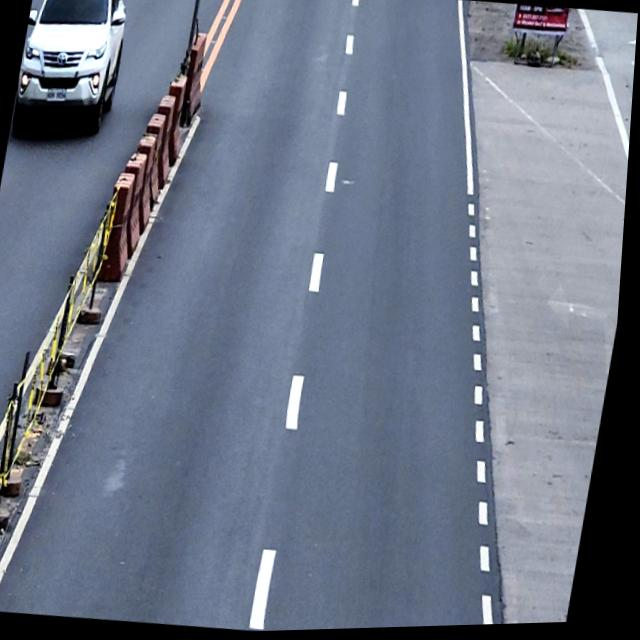Car: (10, 0, 136, 144)
License-Plate: (46, 88, 69, 102)
